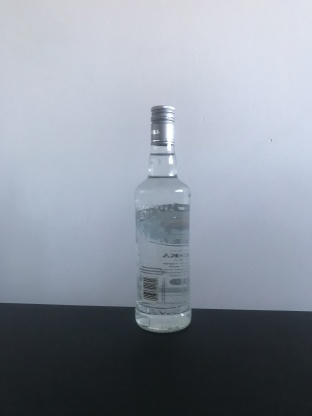nakretka: (149, 105, 176, 146)
